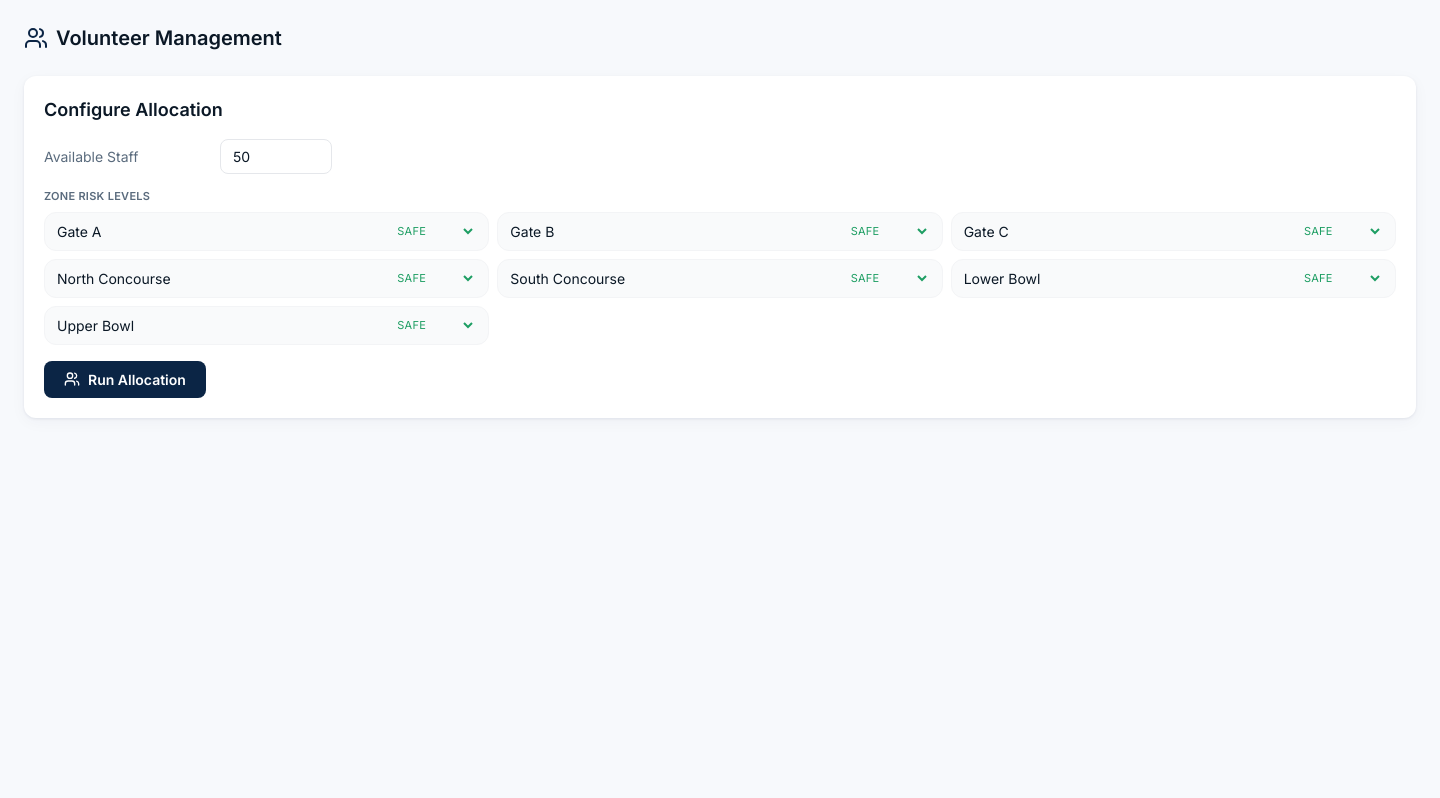
Test: VolunteerPanel › passes axe accessibility check with results displayed
Step 1. Click the button "Run Allocation" → [125, 379], box [44,361,206,398]
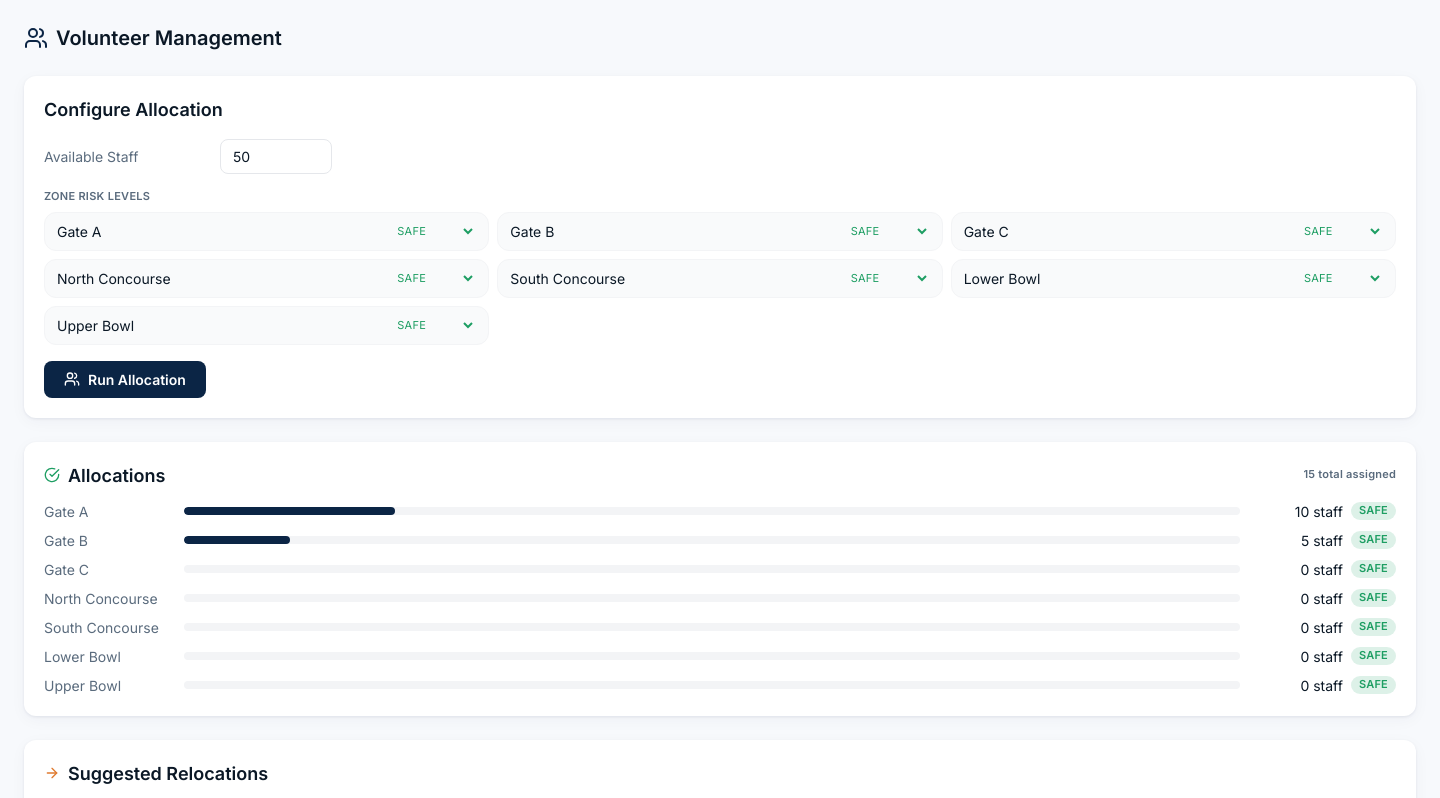
Now the heading "Allocations 15 total assigned" is shown, box [44,462,1396,489]
